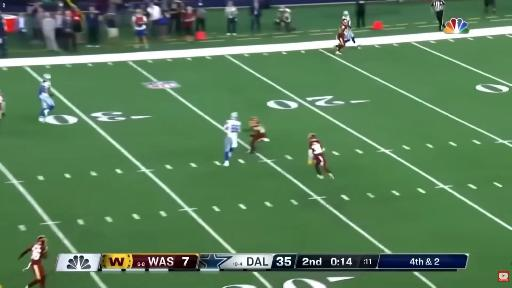Helmet: (250, 117, 259, 127), (38, 236, 46, 243), (231, 112, 238, 119), (42, 82, 50, 88), (43, 74, 51, 79), (308, 134, 316, 139), (344, 11, 349, 17), (341, 19, 347, 24), (38, 236, 45, 240)
Jersey: (39, 80, 54, 109), (30, 242, 46, 265), (337, 19, 349, 42), (224, 120, 241, 135), (343, 17, 353, 40), (309, 139, 323, 155), (253, 124, 265, 134), (342, 17, 351, 26)
Player: (19, 236, 47, 287), (308, 134, 334, 178), (223, 112, 241, 166), (248, 117, 269, 153), (39, 74, 54, 122), (342, 11, 355, 44), (335, 20, 347, 54)
